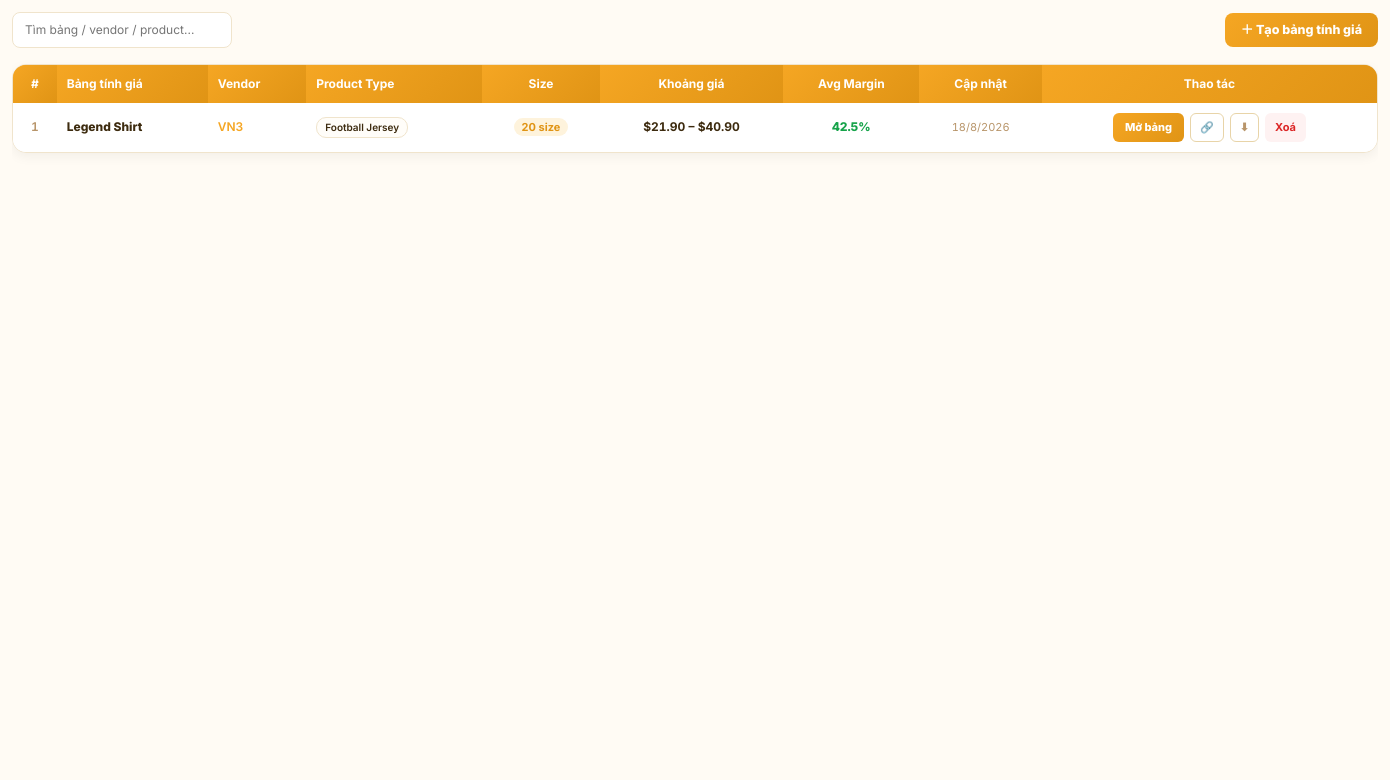
Test: export vẫn có đường lùi khi backend chưa có /price-sheets/{id} › danh sách chỉ có bản rút gọn + get(id) lỗi → không export được bảng rỗng, báo lỗi rõ ràng
The width and height of the screenshot is (1390, 780).
What coordinates should you click on to do the following:
click the button titled "Export Excel"
I would click on:
 (1244, 127)
Its box is [1230,113,1259,142].
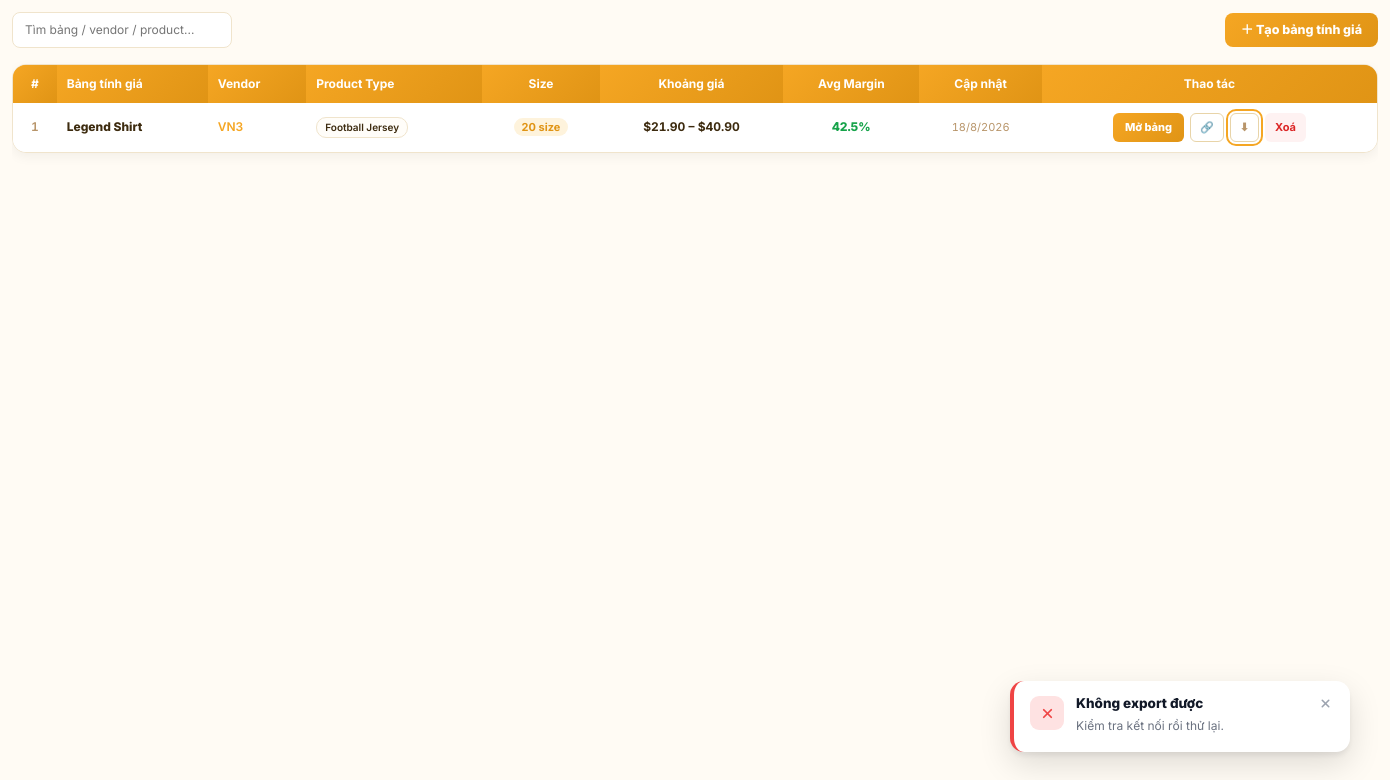
Result: the text "Không export được" is shown at [1076,696,1203,712]
